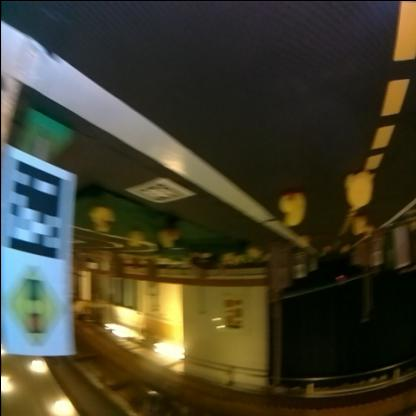Duckie: (345, 172, 373, 206), (280, 194, 306, 226), (90, 206, 113, 233), (352, 215, 366, 233)
QR code: (6, 156, 68, 259), (128, 179, 194, 201)
Signal sign: (6, 267, 64, 347)
